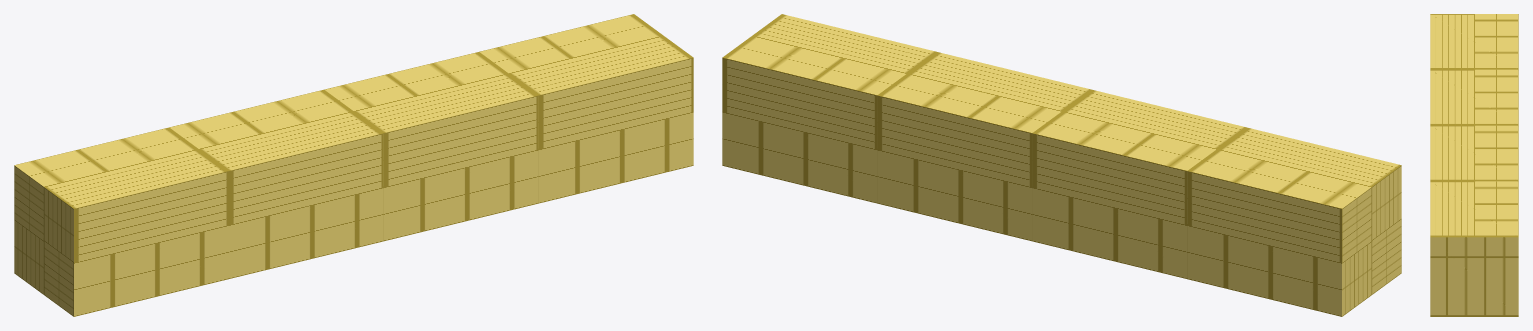
The model's file is kabe_long.obj.
The picture shows the model from 3 angles, left to right: view 1: azimuth 30°, elevation 25°; view 2: azimuth 150°, elevation 25°; view 3: azimuth 270°, elevation 25°; orthographic projection. The views are drawn at different scales.
Visible parts, largest first — view 1: kabe_nagai_Cube.004; view 2: kabe_nagai_Cube.004; view 3: kabe_nagai_Cube.004.
Boxes of the visible parts, x1,y1,x2,y2 form: kabe_nagai_Cube.004: (14,14,693,316); kabe_nagai_Cube.004: (722,14,1401,316); kabe_nagai_Cube.004: (1430,14,1518,316).
Size of the model in its own units: 12 by 2 by 2.
